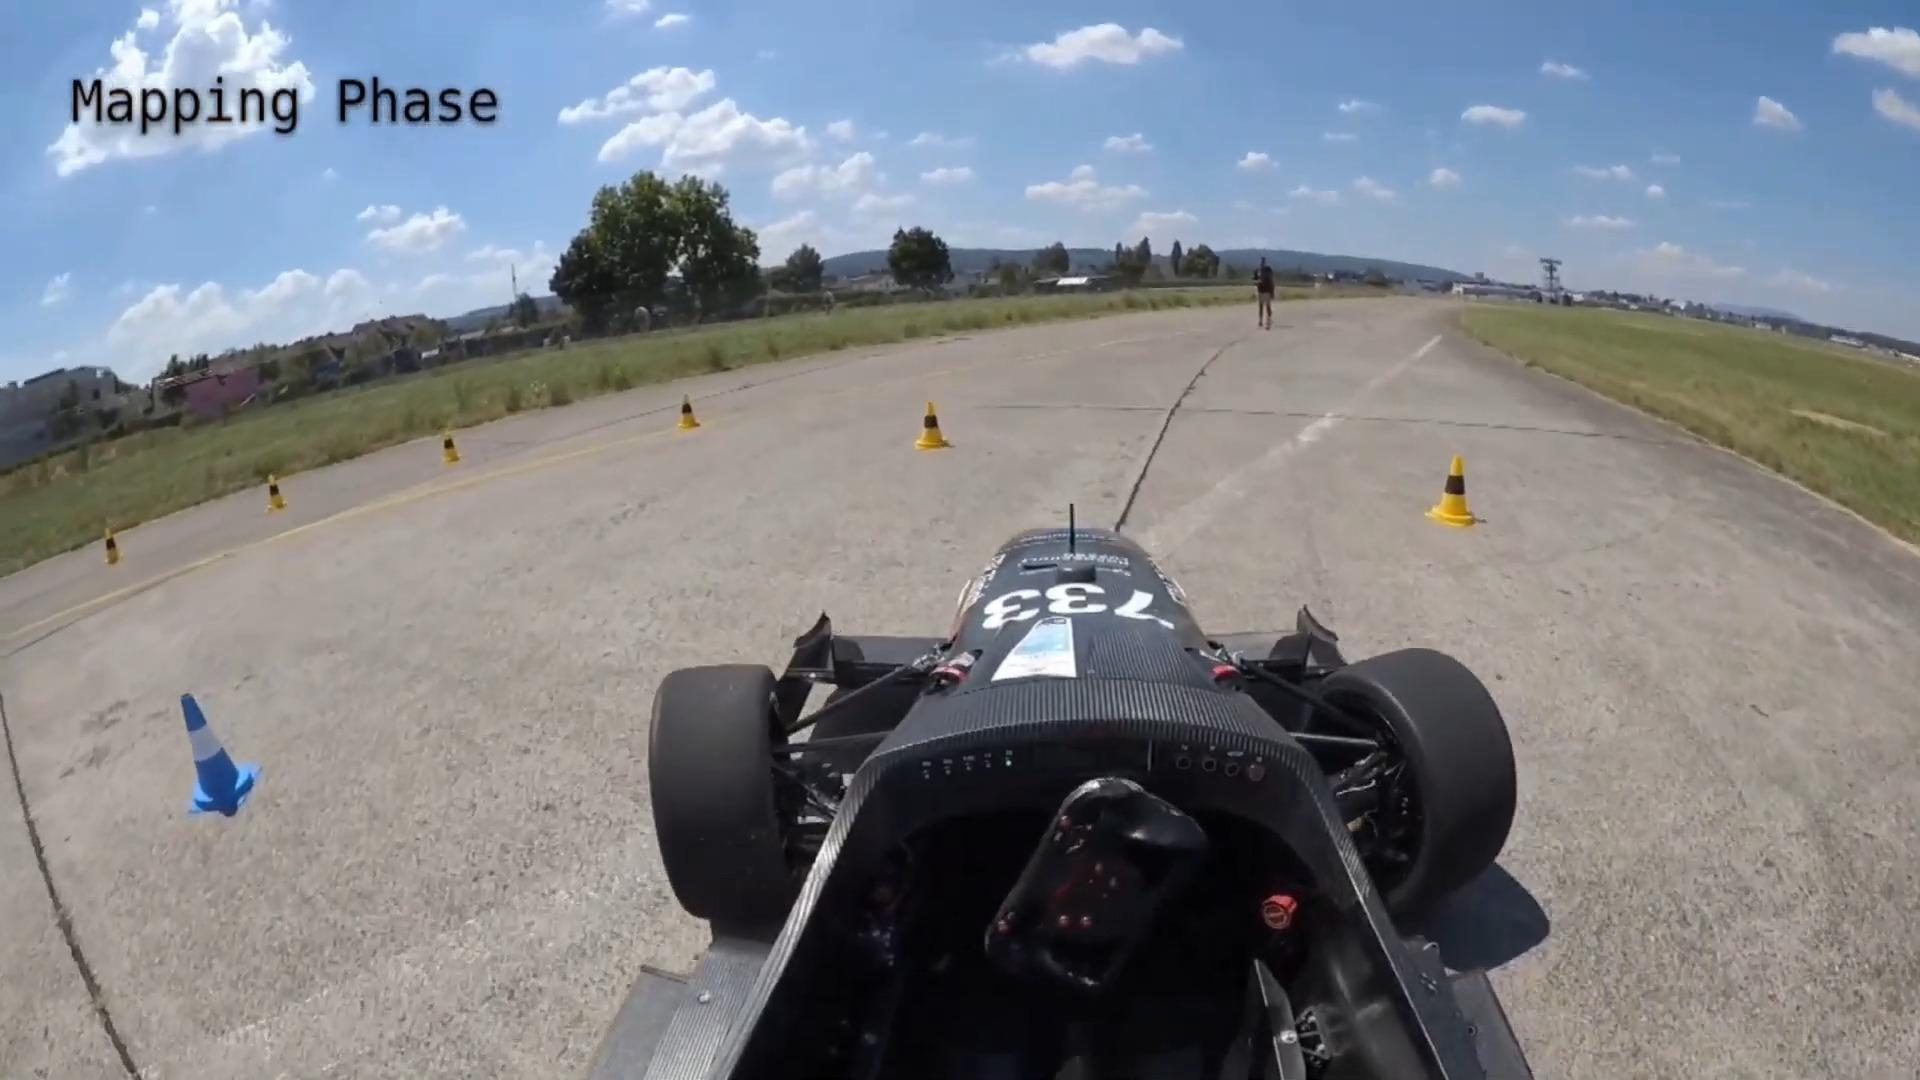blue_cone: (153, 692, 262, 804)
yellow_cone: (1412, 436, 1501, 546), (903, 388, 956, 454), (663, 386, 704, 438)
